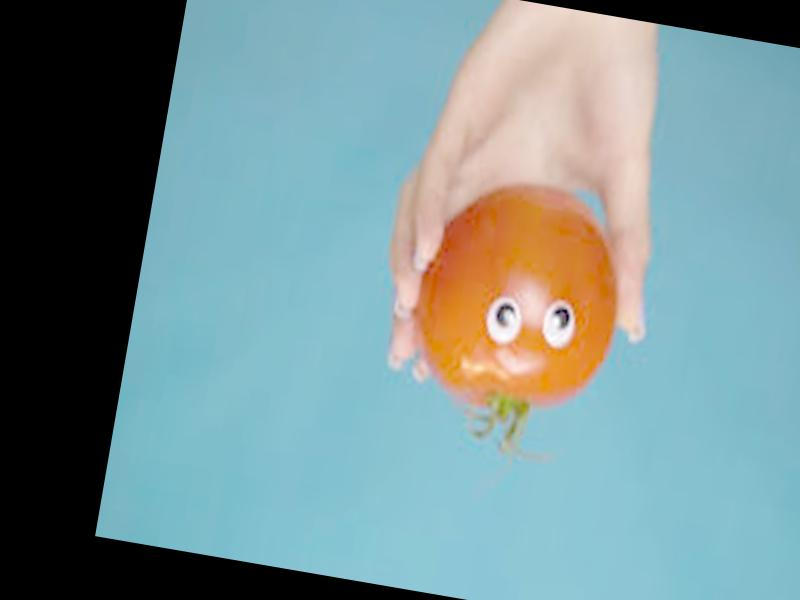Tomato: (399, 166, 638, 430)
